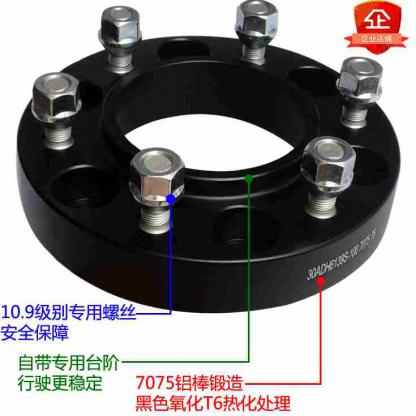FOD: (11, 30, 404, 319)
